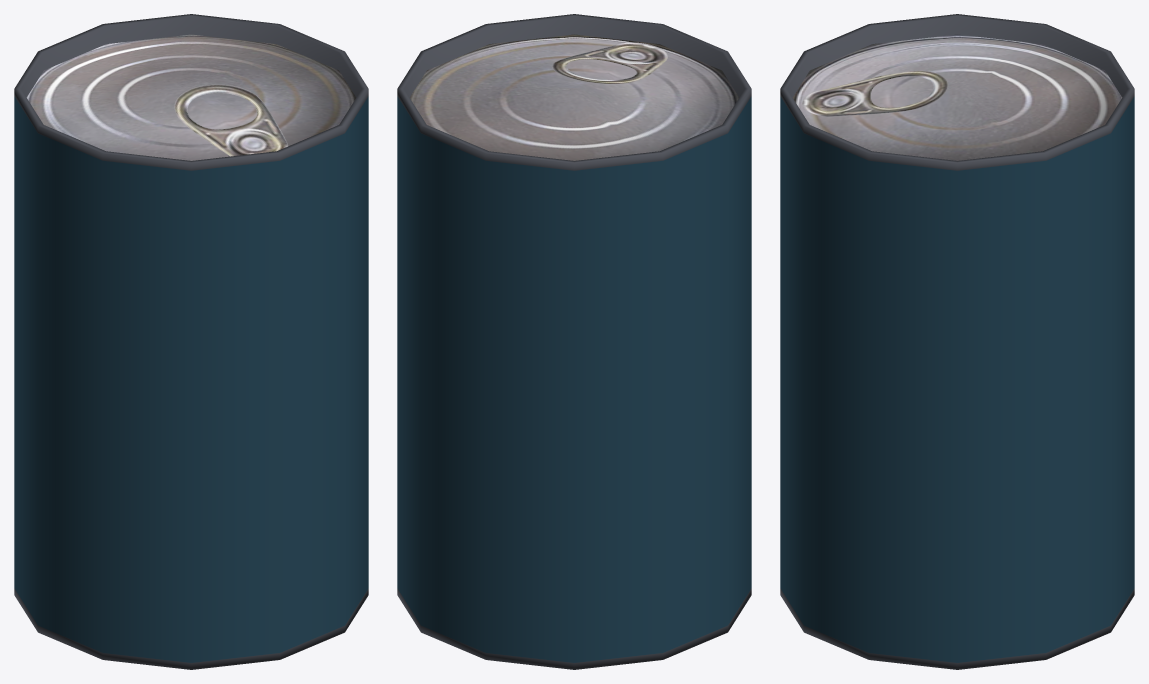
File: Ven,Food_Can_Base.fbx
3 views of the same model, side by side, from view 1: azimuth 30°, elevation 25°; view 2: azimuth 150°, elevation 25°; view 3: azimuth 270°, elevation 25° (orthographic).
Parts seen in each view (by area): view 1: Food_Can_base; view 2: Food_Can_base; view 3: Food_Can_base.
Part boxes in pixels (x1,y1,x2,y2): Food_Can_base: [14, 14, 368, 669]; Food_Can_base: [397, 14, 751, 669]; Food_Can_base: [780, 14, 1134, 669].
Bounding box in the file's own units: 0.5571 × 0.8891 × 0.5571.
